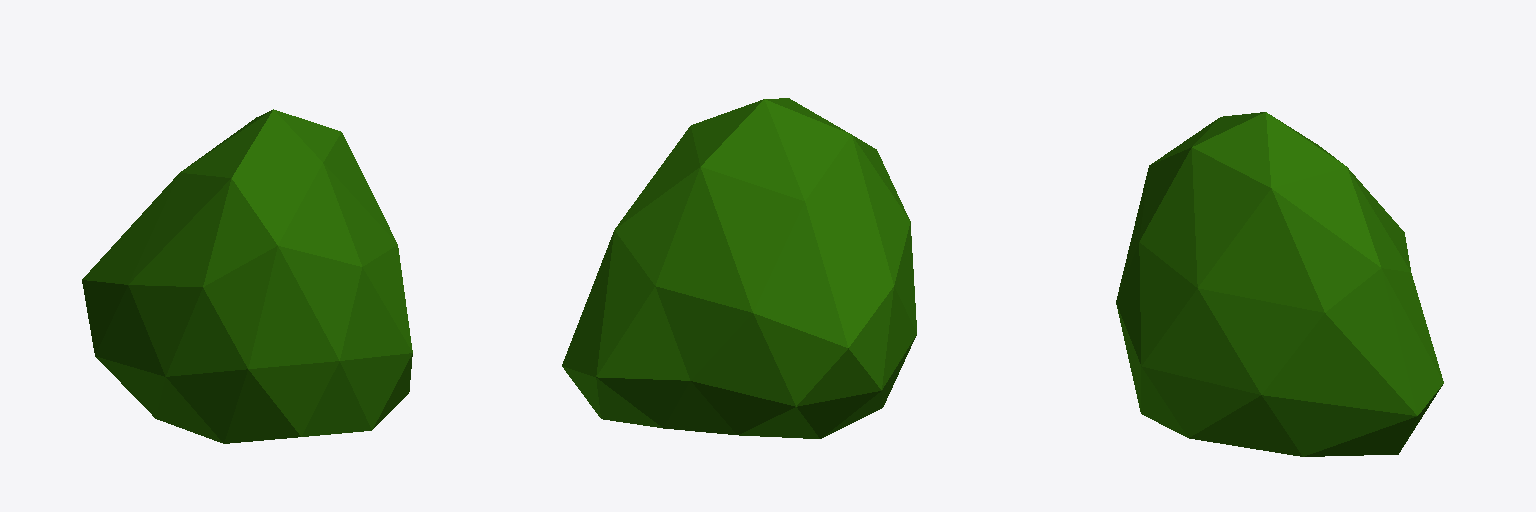
The model's file is rock01.obj.
3 views of the same model, side by side, from view 1: azimuth 30°, elevation 25°; view 2: azimuth 150°, elevation 25°; view 3: azimuth 270°, elevation 25° (orthographic).
Parts seen in each view (by area): view 1: Bush1_1; view 2: Bush1_1; view 3: Bush1_1.
Part boxes in pixels (left/top/right/bottom): Bush1_1: left=82, top=109, right=412, bottom=443; Bush1_1: left=562, top=98, right=916, bottom=438; Bush1_1: left=1116, top=112, right=1443, bottom=456.
Size of the model in its own units: 1.83 by 1.9 by 1.89.